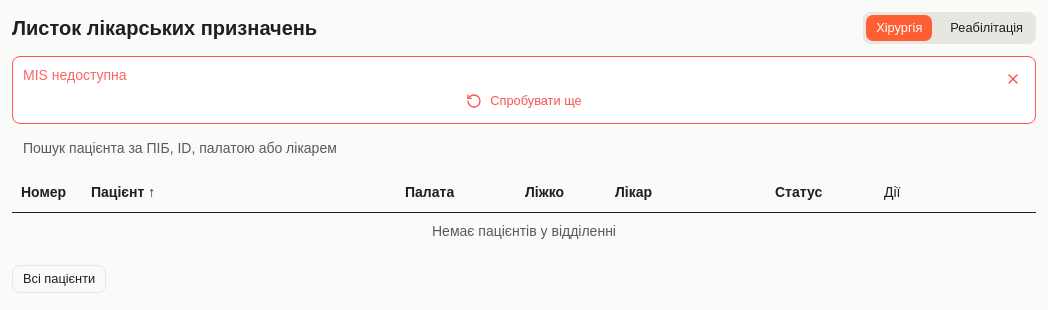
Test case: PrescriptionPage › shows an error with retry that refetches the roster
Expected: the text "MIS недоступна" is shown, [23,67,127,83]
Click the button "Спробувати ще". click: {"x": 524, "y": 101}
box: [23,87,1025,115]
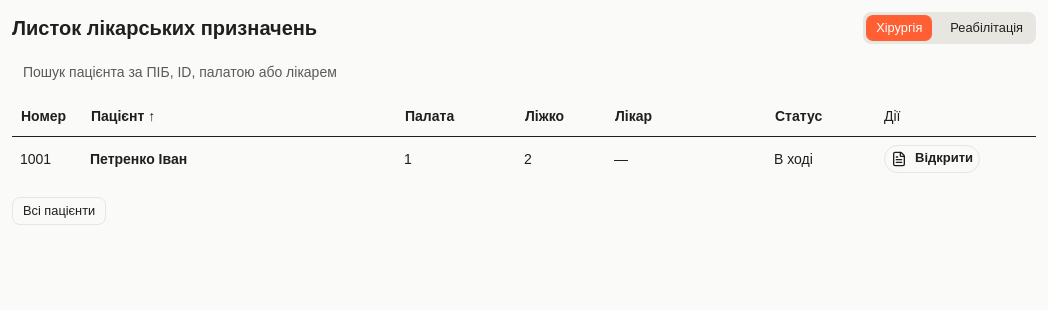
Expected: the text "Петренко Іван" is shown, [90,150,187,166]
